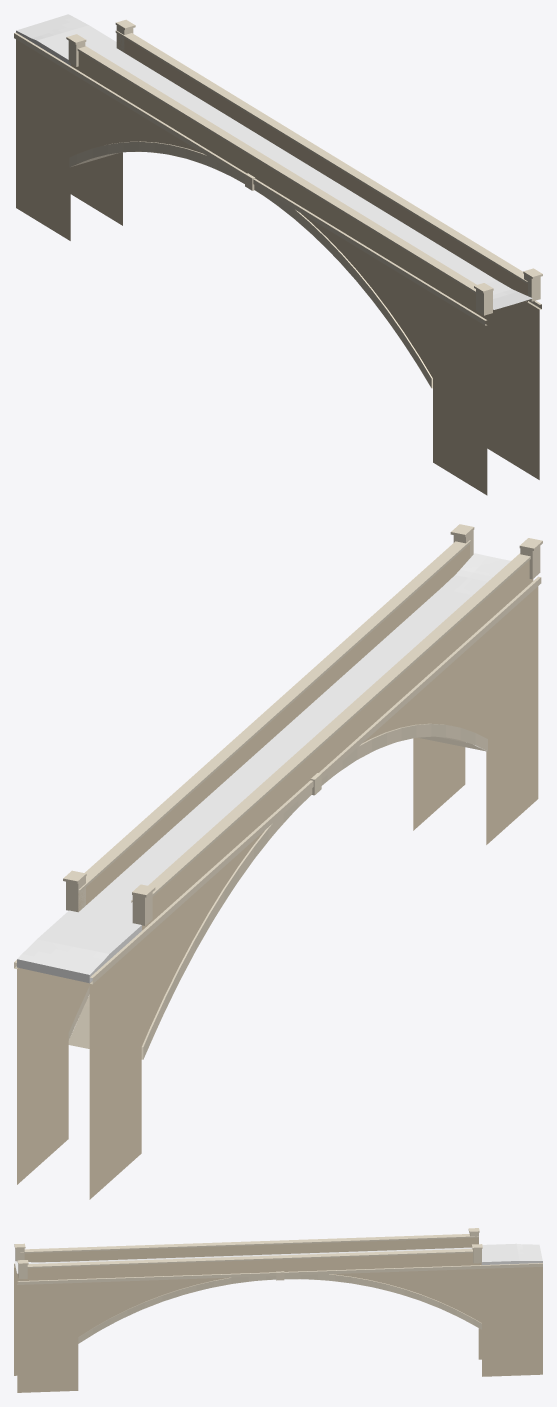
Rendered from SM_BM_BC_Passerella.glb.
3 views of the same model, one above another, from view 1: azimuth 30°, elevation 25°; view 2: azimuth 150°, elevation 25°; view 3: azimuth 270°, elevation 25° (orthographic). The views are drawn at different scales.
Parts seen in each view (by area): view 1: SM_BM_BC_Passerella; view 2: SM_BM_BC_Passerella; view 3: SM_BM_BC_Passerella.
Boxes of the visible parts, x1=… form: SM_BM_BC_Passerella: x1=14, y1=14, x2=542, y2=495; SM_BM_BC_Passerella: x1=14, y1=524, x2=542, y2=1199; SM_BM_BC_Passerella: x1=14, y1=1228, x2=542, y2=1392.
Bounding box in the file's own units: 7.6 × 12.44 × 45.7.
